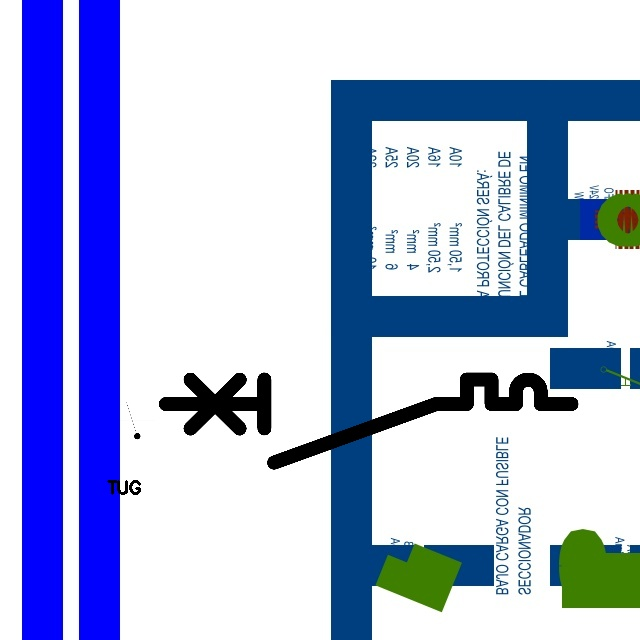interruptor_termomagnetico: (155, 369, 582, 473)
